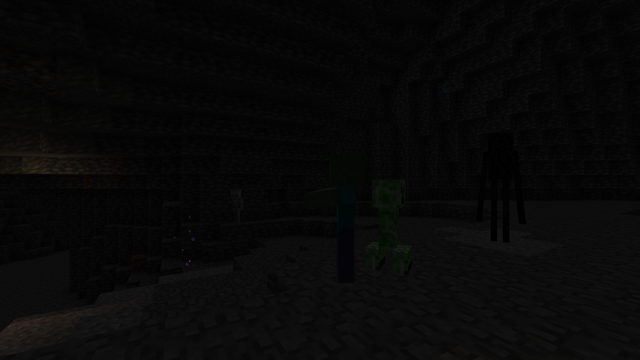creepers: (376, 175, 412, 274)
endermens: (481, 128, 517, 245)
squelettes: (230, 189, 241, 222)
zombies: (320, 158, 370, 287)
